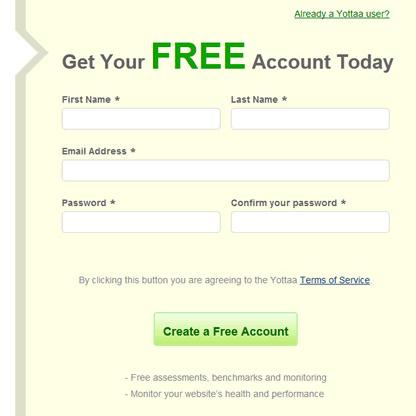button: (153, 312, 299, 346)
field: (60, 159, 391, 182), (228, 106, 391, 131), (60, 107, 222, 131), (228, 210, 390, 233), (60, 211, 222, 233)
